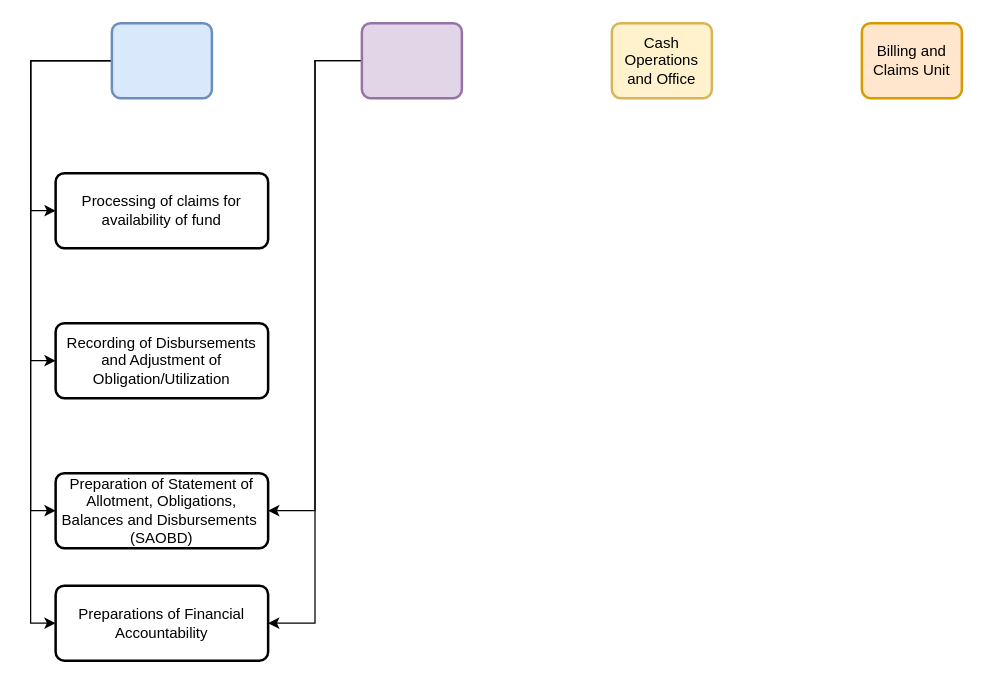
Some shapes in this 985 by 683 pixel diagram are drawn without their labels. Each missing label, with the centre of its shape:
Accounting: (411,60)
Budget Office: (161,60)
